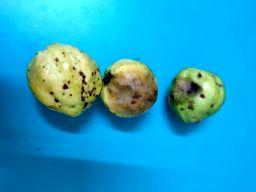guava: (23, 40, 101, 118), (168, 64, 229, 126), (101, 56, 158, 118)
